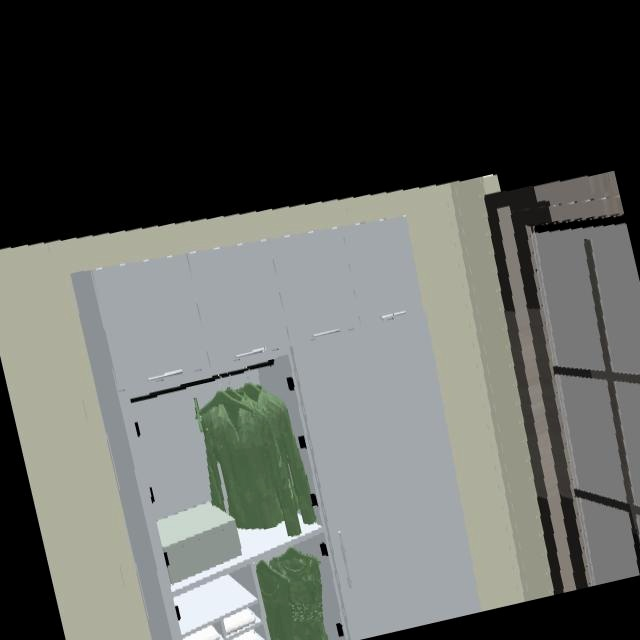wardrobe: (70, 218, 480, 640)
